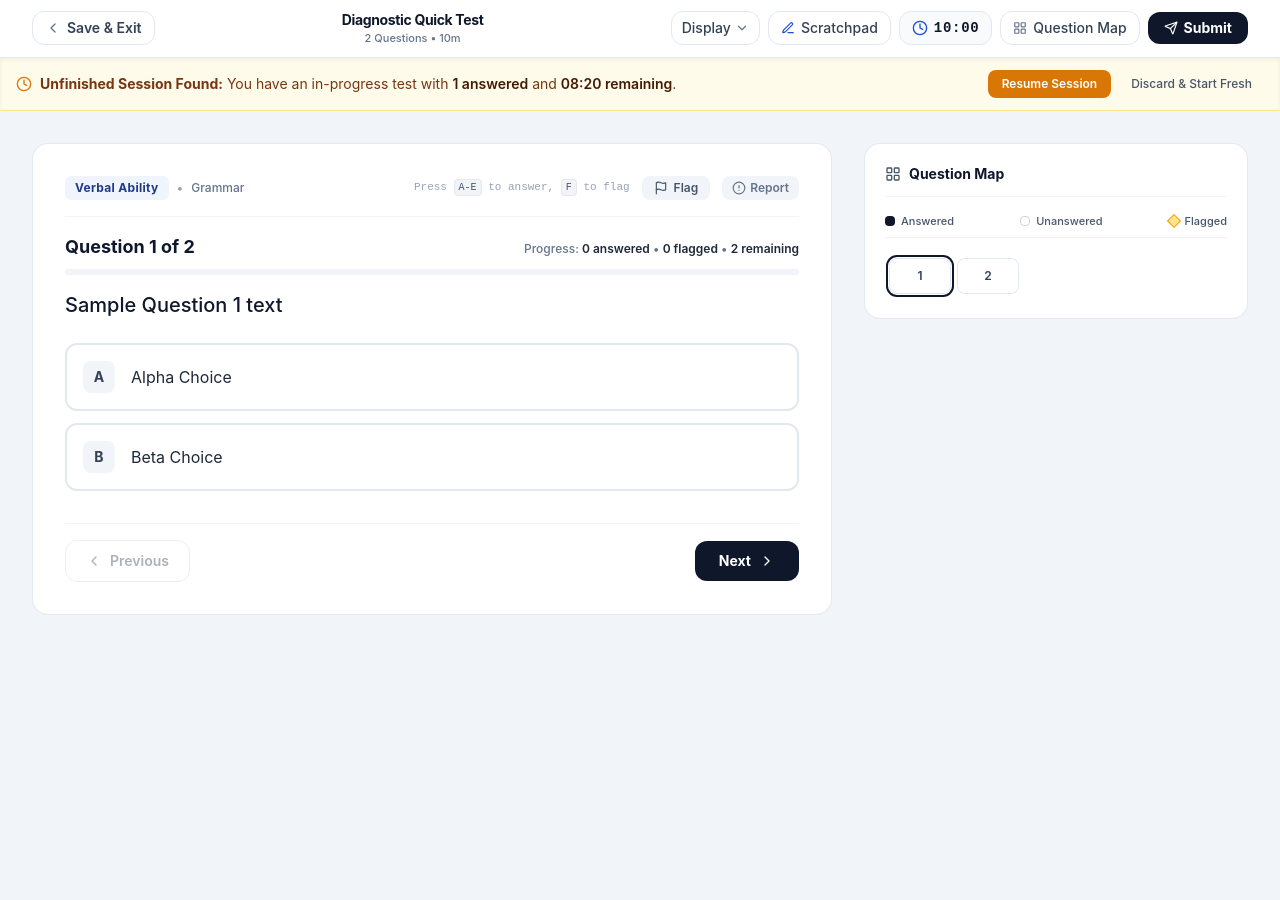
Test case: ExamRunner Component › discards existing draft when Discard & Start Fresh is clicked
The image size is (1280, 900).
Click the button "Discard & Start Fresh" at [1192, 84], box [1119, 70, 1264, 98]
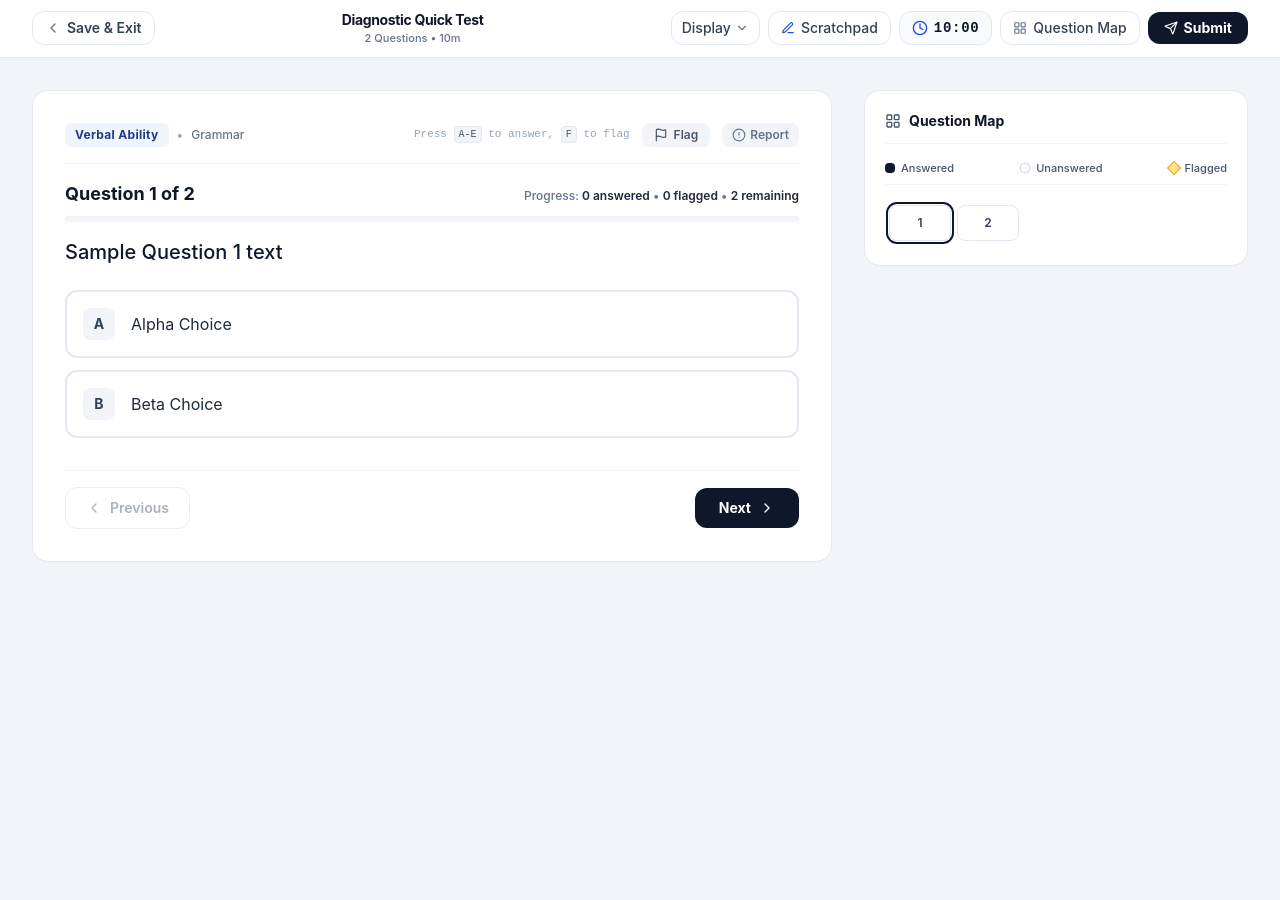
Now the text "Unfinished Session Found" is gone
